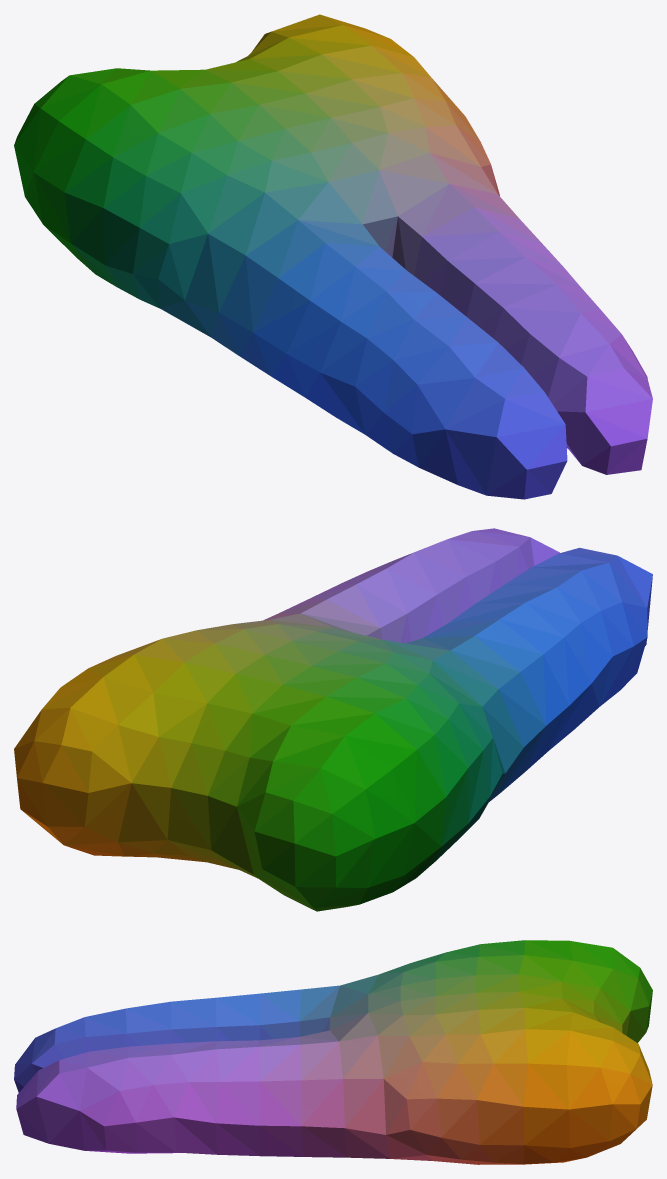
The model's file is SM_Shield.fbx.
3 renders of one model, top to bottom at view 1: azimuth 30°, elevation 25°; view 2: azimuth 150°, elevation 25°; view 3: azimuth 270°, elevation 25°, orthographic. The views are drawn at different scales.
Parts seen in each view (by area): view 1: Tazer; view 2: Tazer; view 3: Tazer.
Part boxes in pixels (x1,y1,x2,y2): Tazer: (14, 14, 652, 499); Tazer: (14, 528, 652, 911); Tazer: (14, 940, 652, 1164).
Size of the model in its own units: 2.39 by 1.14 by 4.57.
